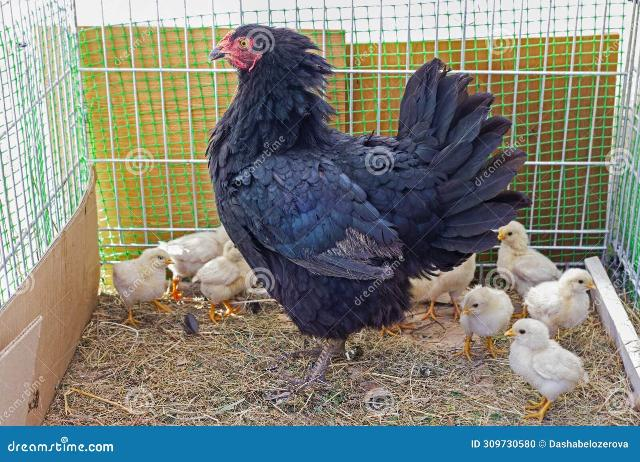Chicken: (205, 22, 534, 388)
